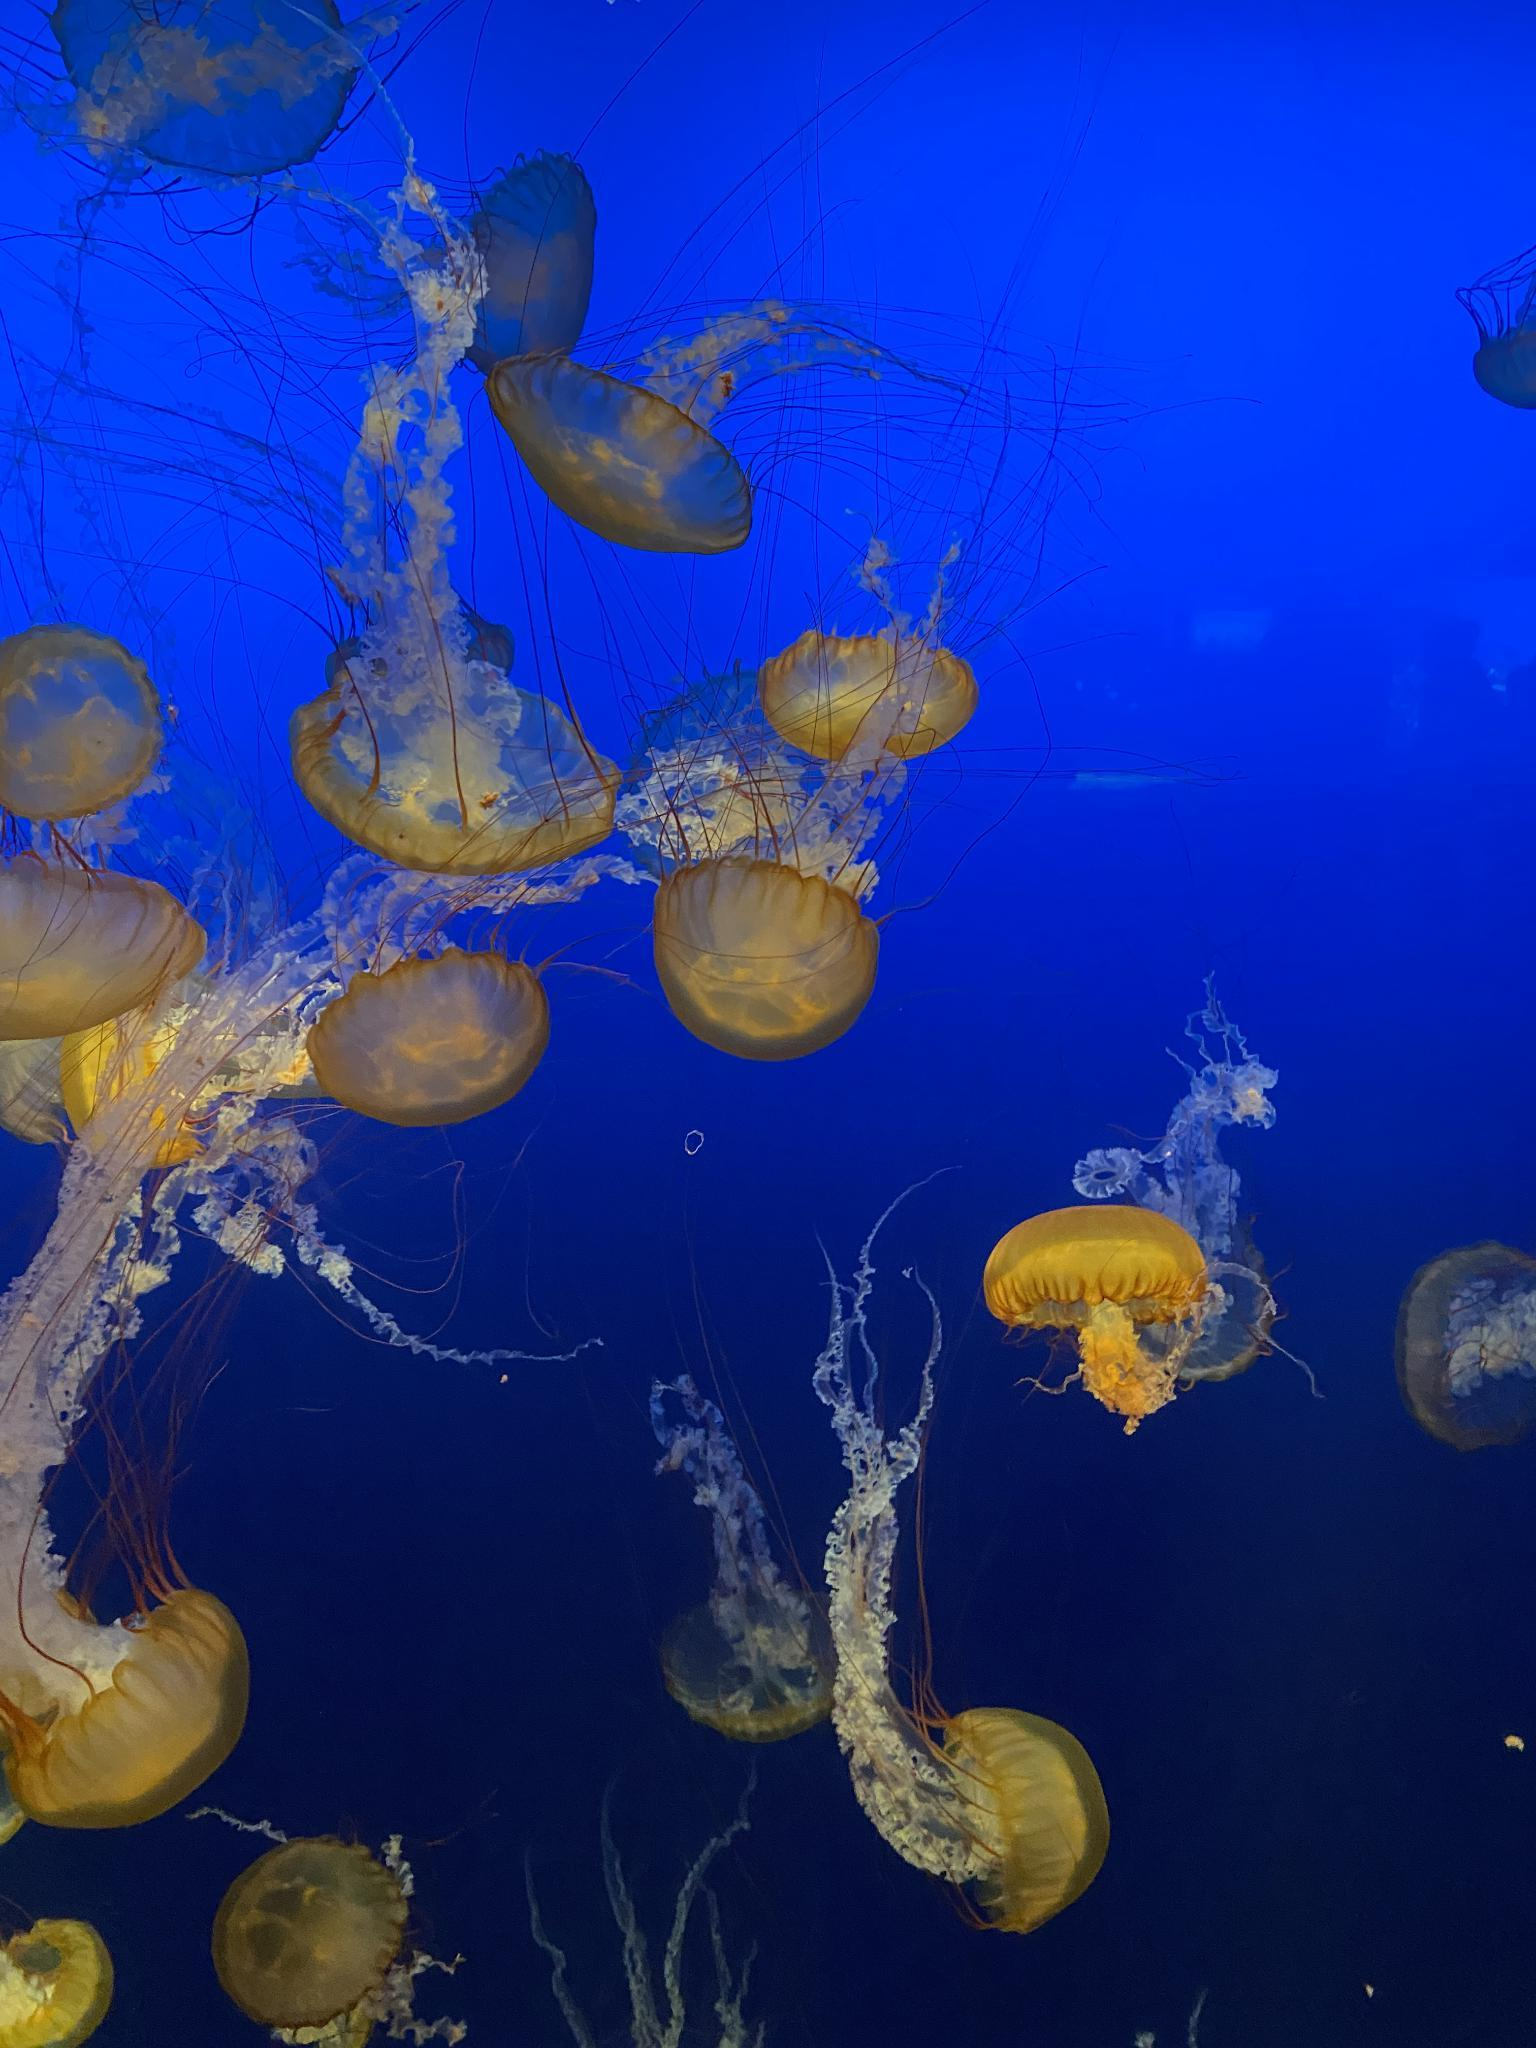jellyfish: (292, 663, 623, 874), (6, 1590, 252, 1829), (489, 352, 749, 555), (55, 0, 345, 177), (649, 860, 879, 1066), (307, 953, 550, 1129), (0, 855, 210, 1043), (950, 1705, 1112, 1937), (447, 145, 599, 377), (221, 1835, 403, 2022), (0, 626, 168, 826), (983, 1205, 1210, 1334), (762, 634, 979, 768), (658, 1596, 854, 1745), (1405, 1245, 1536, 1451), (0, 1916, 116, 2046), (1473, 316, 1534, 410)
